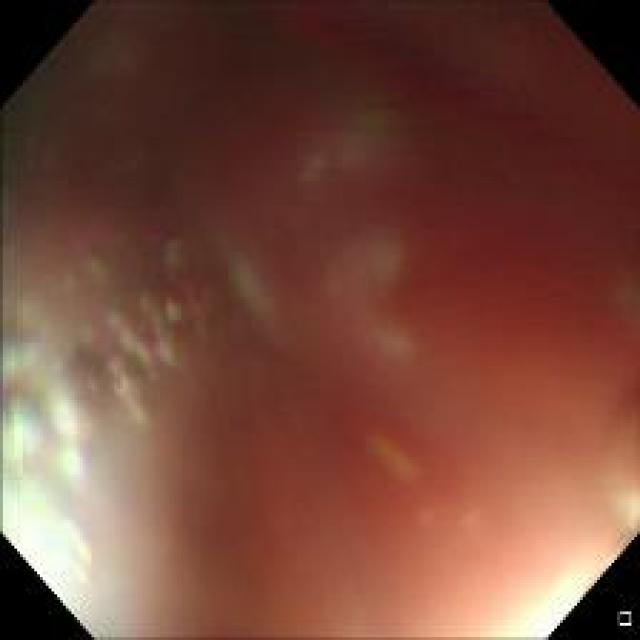bubbles: (6, 252, 208, 561)
color misalignment: (6, 19, 625, 620), (10, 245, 201, 535), (334, 229, 436, 391), (295, 91, 409, 174), (198, 232, 280, 334), (386, 428, 436, 494)
saturation: (11, 420, 96, 609)
